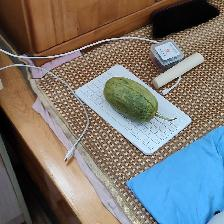gua: (102, 73, 159, 127)
